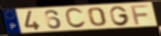0: (87, 7, 109, 28)
4: (24, 10, 42, 32)
6: (44, 10, 63, 30)
C: (64, 7, 88, 30)
F: (130, 4, 151, 25)
G: (109, 5, 132, 27)
